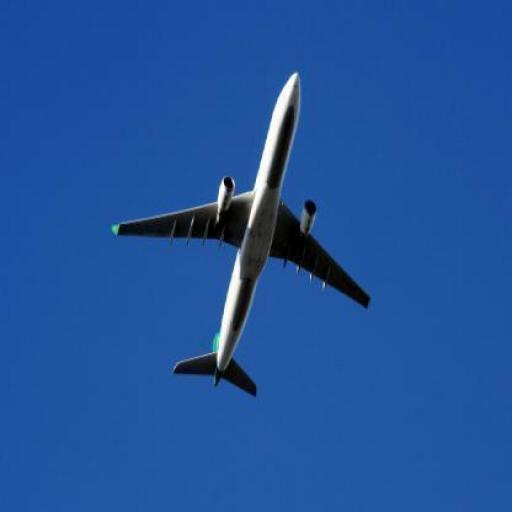aircraft: (106, 68, 372, 400)
